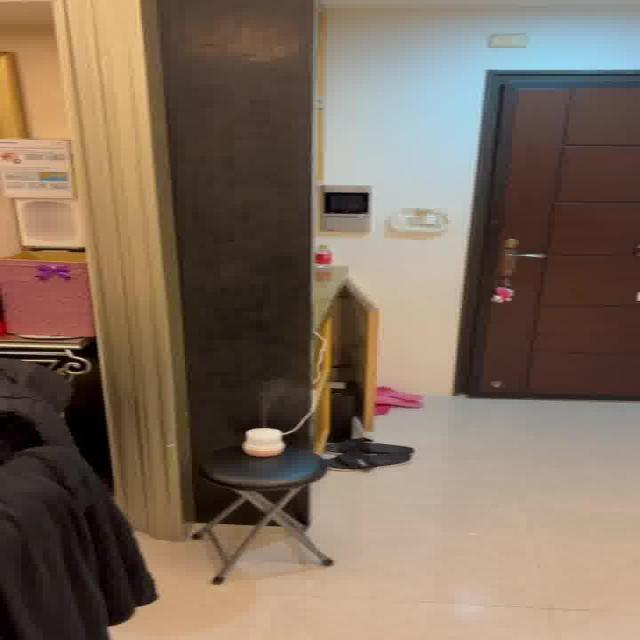fire: (243, 376, 294, 416)
